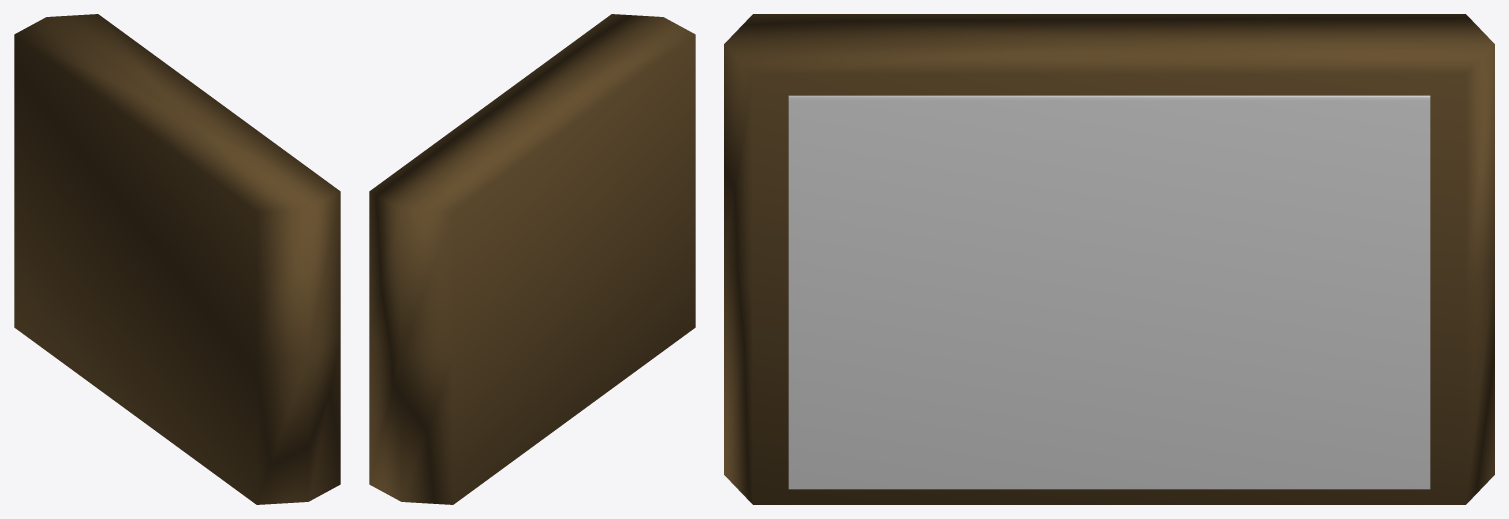
File: Sign.dae
The picture shows the model from 3 angles, left to right: view 1: azimuth 30°, elevation 25°; view 2: azimuth 150°, elevation 25°; view 3: azimuth 270°, elevation 25°; orthographic projection. The views are drawn at different scales.
Parts seen in each view (by area): view 1: Cube; view 2: Cube; view 3: textfield, Cube.
Boxes of the visible parts, bbox=[...] form: Cube: bbox=[14, 14, 340, 504]; Cube: bbox=[369, 14, 695, 504]; textfield: bbox=[788, 95, 1430, 489]; Cube: bbox=[724, 14, 1494, 504].
Bounding box in the file's own units: 0.6581 × 3.24 × 2.
